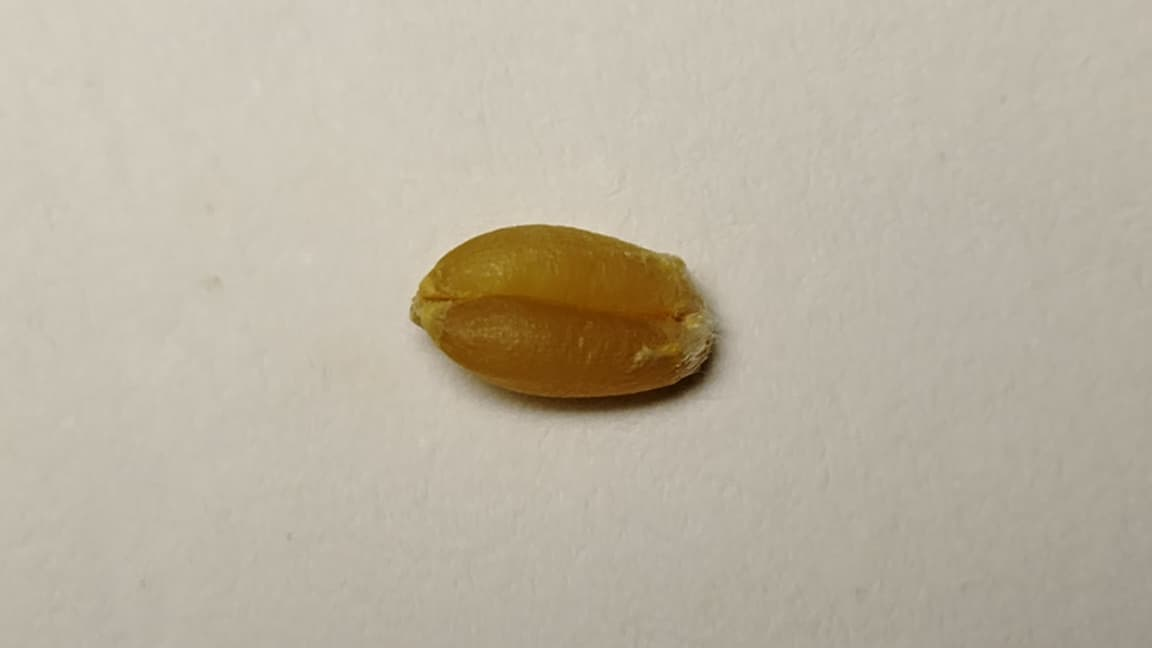healthy: (411, 225, 714, 396)
